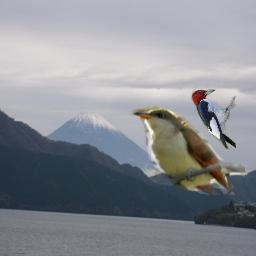Cuckoo: (129, 100, 245, 195)
Woodpecker: (190, 87, 238, 150)
